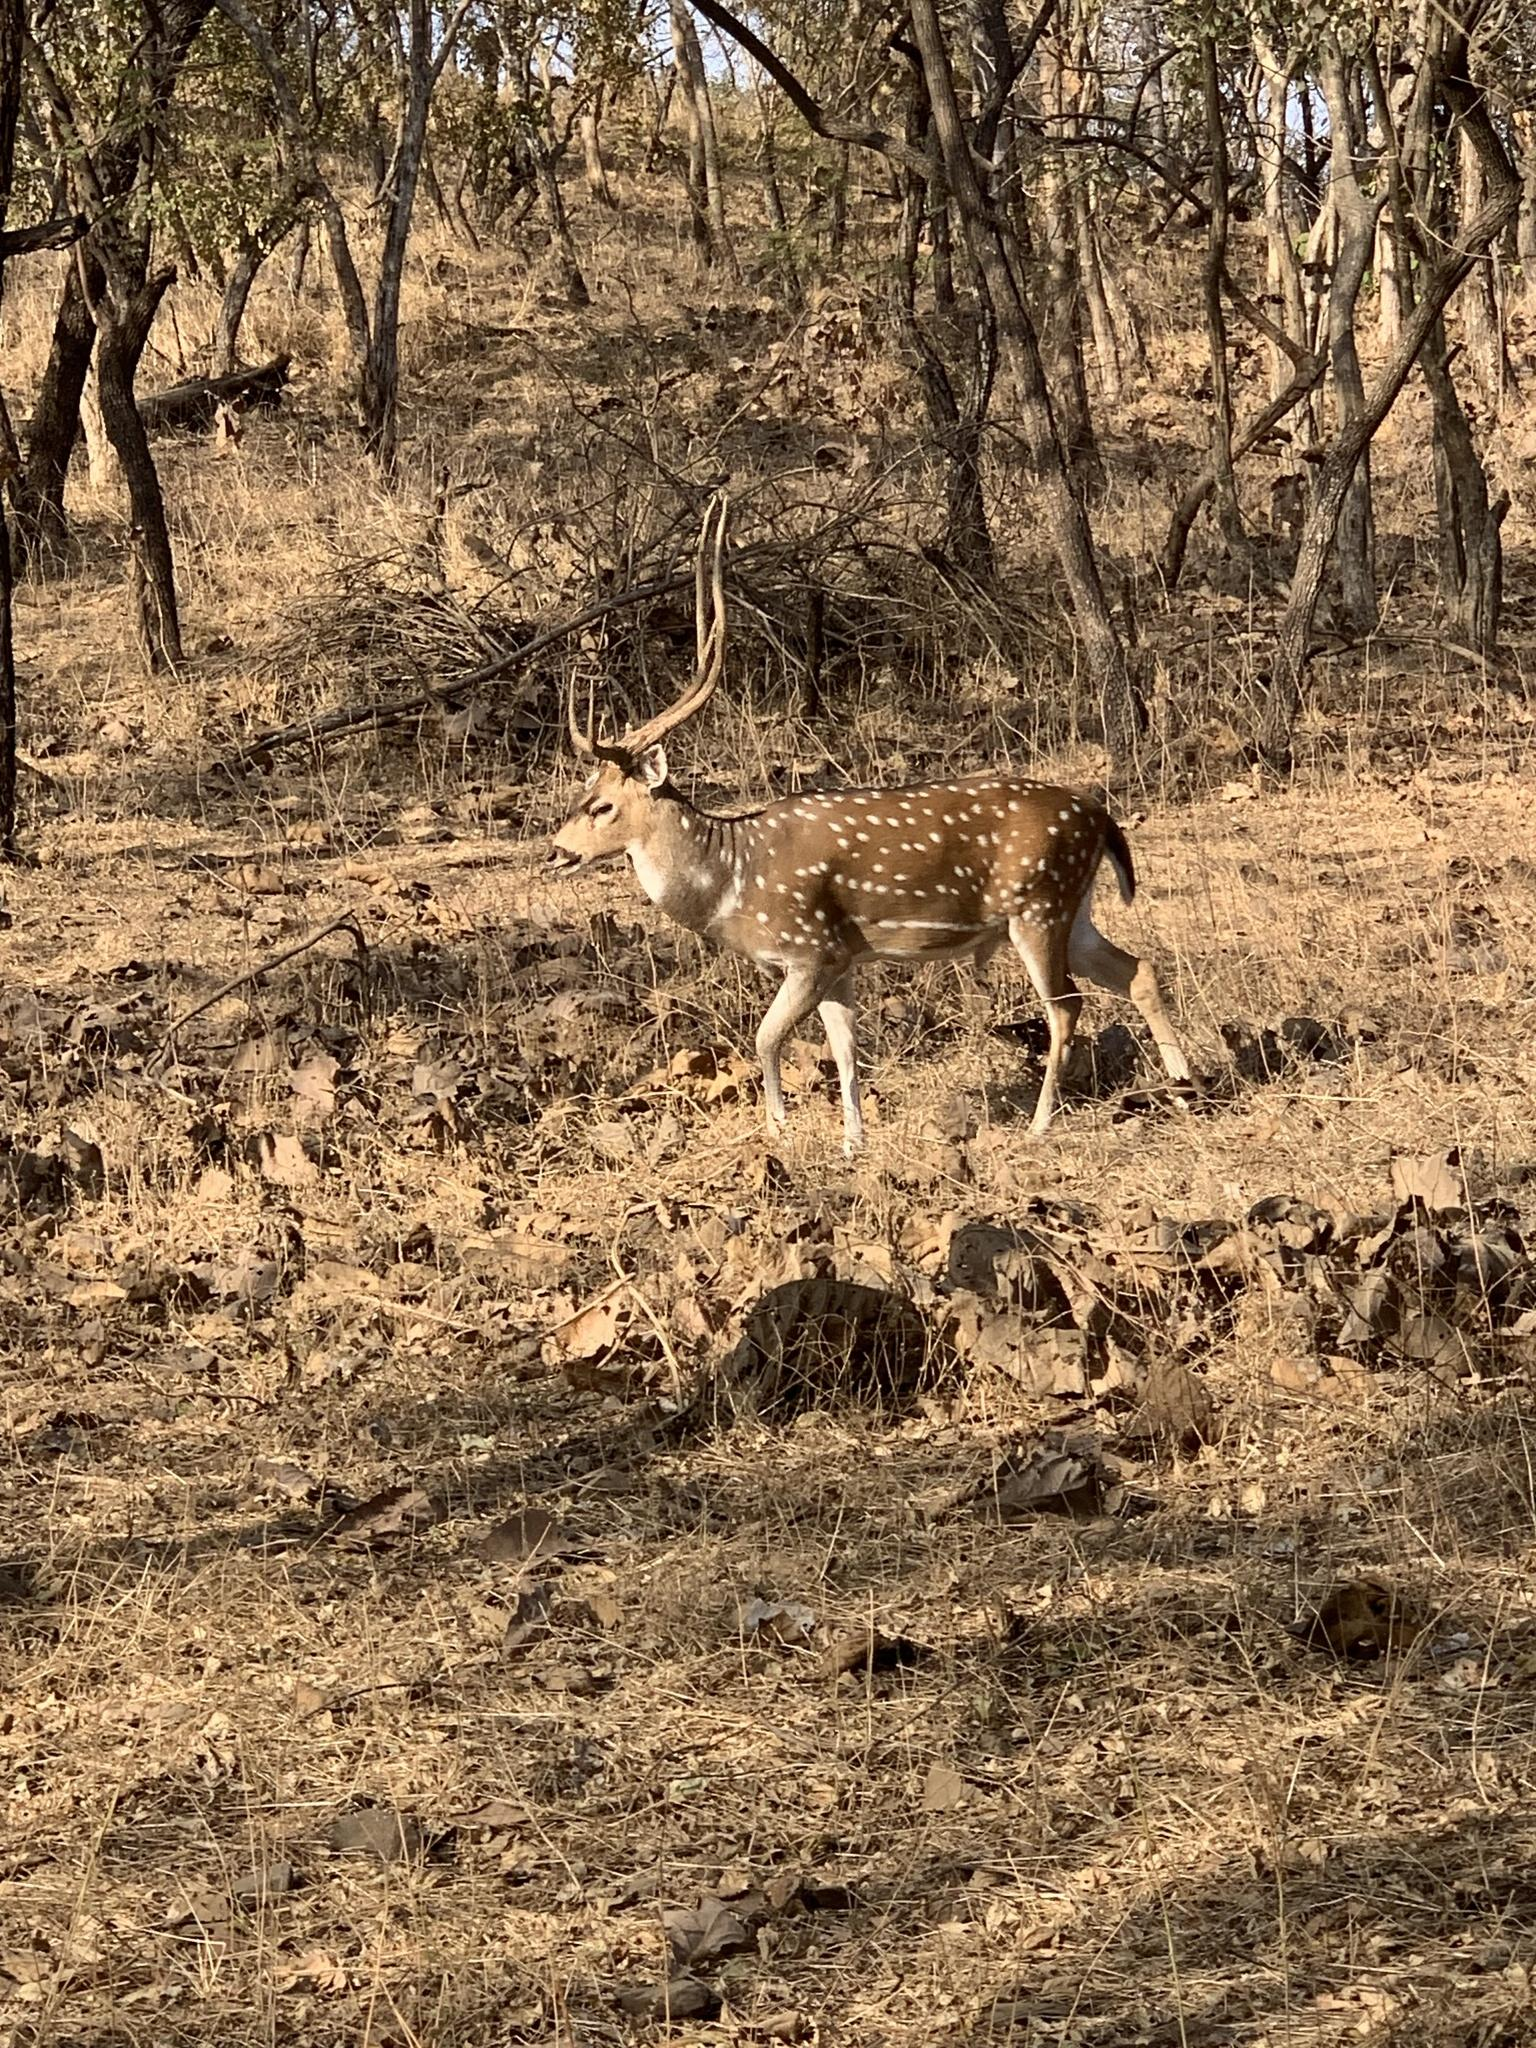Deer: (552, 492, 1191, 1155)
